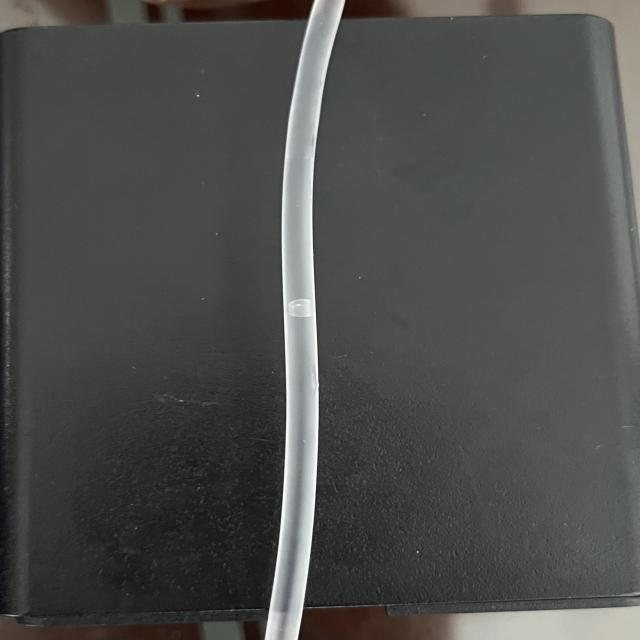bubble: (267, 292, 335, 323)
